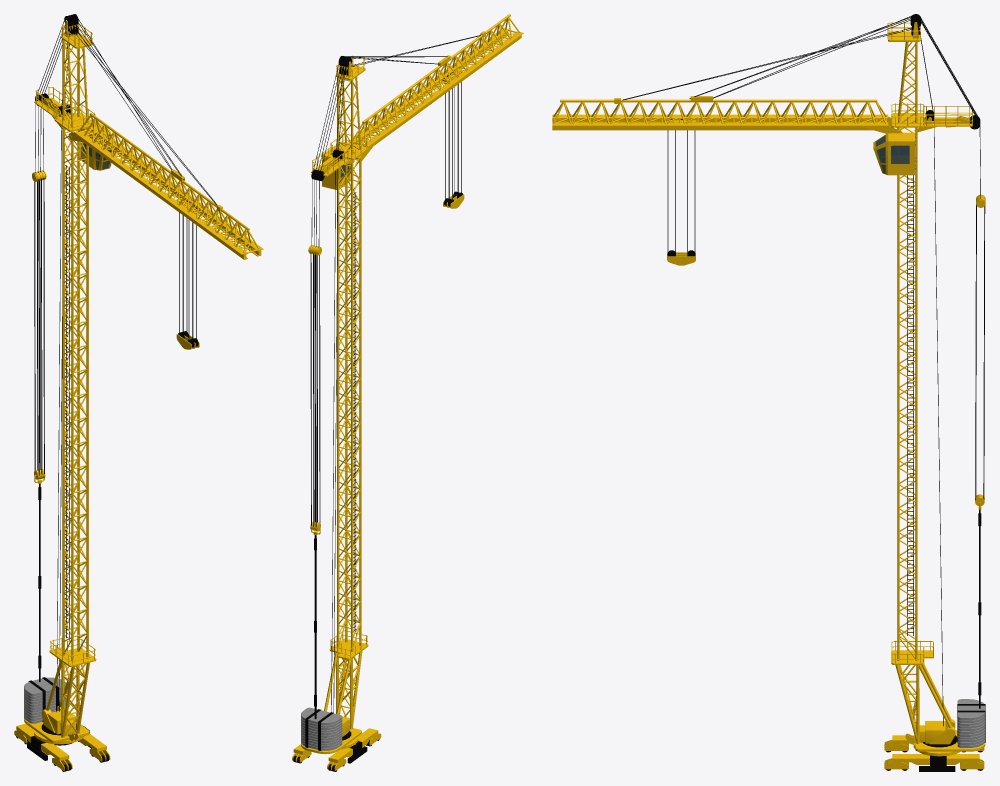
Rendered from Tower Crane.obj.
The picture shows the model from 3 angles, left to right: view 1: azimuth 30°, elevation 25°; view 2: azimuth 150°, elevation 25°; view 3: azimuth 270°, elevation 25°; orthographic projection. The views are drawn at different scales.
Visible parts, largest first — view 1: Box04; view 2: Box04; view 3: Box04.
Boxes of the visible parts, x1,y1,x2,y2 form: Box04: (14,14,263,771); Box04: (292,14,523,771); Box04: (552,14,985,771).
Bounding box in the file's own units: 36652 × 509142 × 268936.
